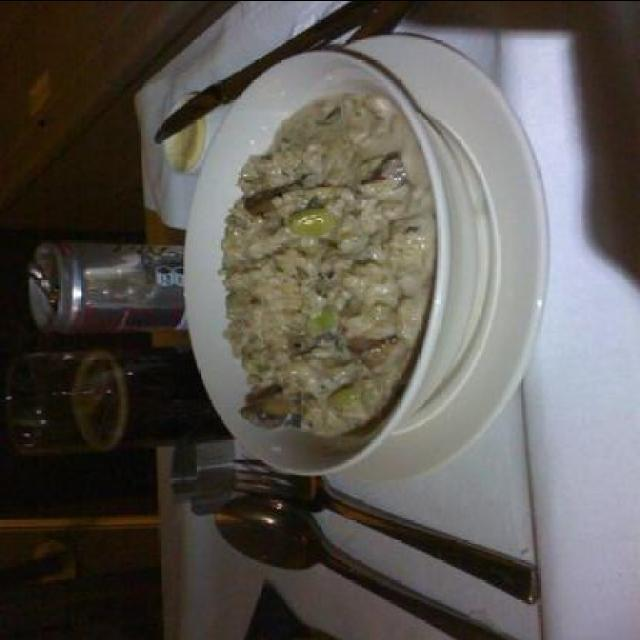Risotto: (218, 94, 442, 423)
